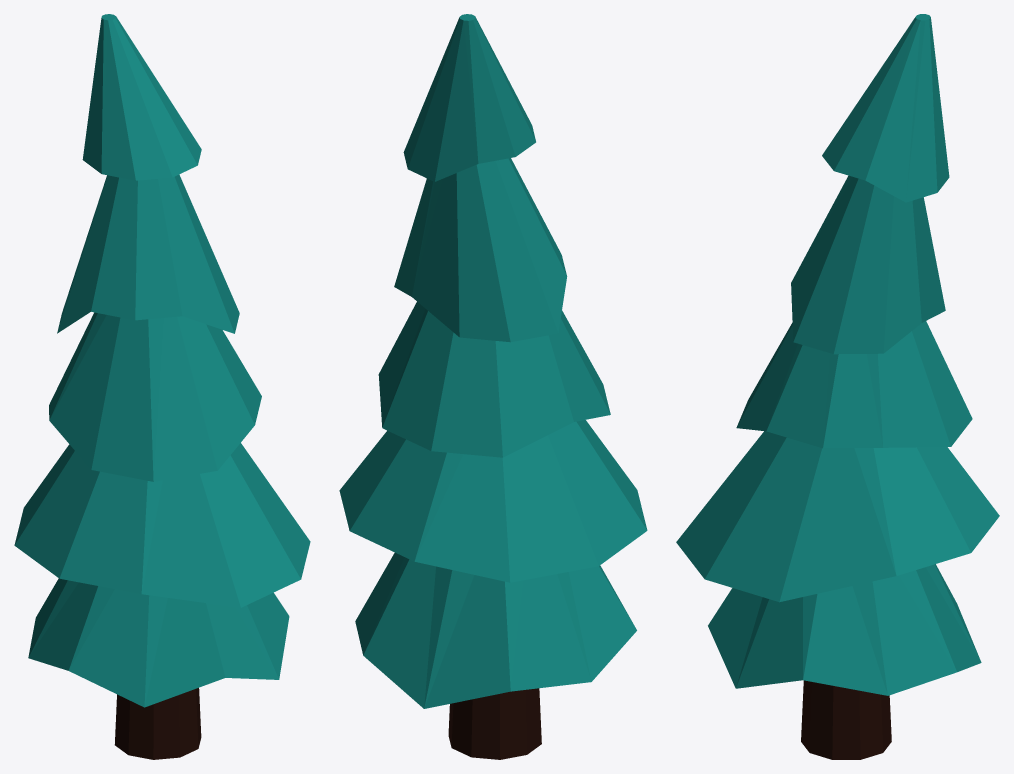
The model's file is t6-cyan.obj.
3 views of the same model, side by side, from view 1: azimuth 30°, elevation 25°; view 2: azimuth 150°, elevation 25°; view 3: azimuth 270°, elevation 25° (orthographic). The views are drawn at different scales.
Parts seen in each view (by area): view 1: t6-cyan_Cylinder.015; view 2: t6-cyan_Cylinder.015; view 3: t6-cyan_Cylinder.015.
Part boxes in pixels (<box>): t6-cyan_Cylinder.015: <box>14,14,310,759</box>; t6-cyan_Cylinder.015: <box>339,14,647,759</box>; t6-cyan_Cylinder.015: <box>676,14,999,759</box>.
Bounding box in the file's own units: 3.03 × 8.46 × 3.46.
